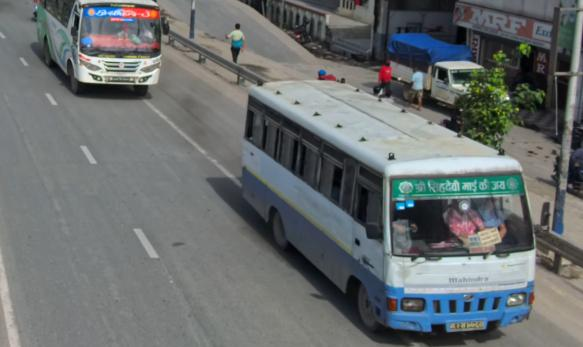bus: (235, 64, 546, 347), (30, 0, 171, 106)
